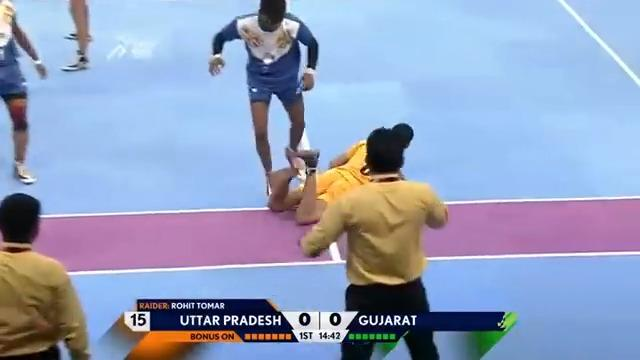Player: (207, 0, 319, 197), (0, 0, 47, 184), (60, 0, 93, 71)
Raider: (265, 137, 373, 224)
referee: (298, 122, 449, 358), (0, 191, 90, 358)
